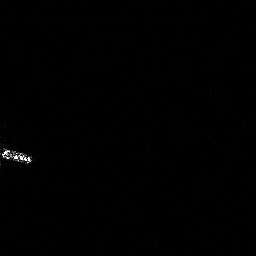ship: (1, 145, 34, 164)
